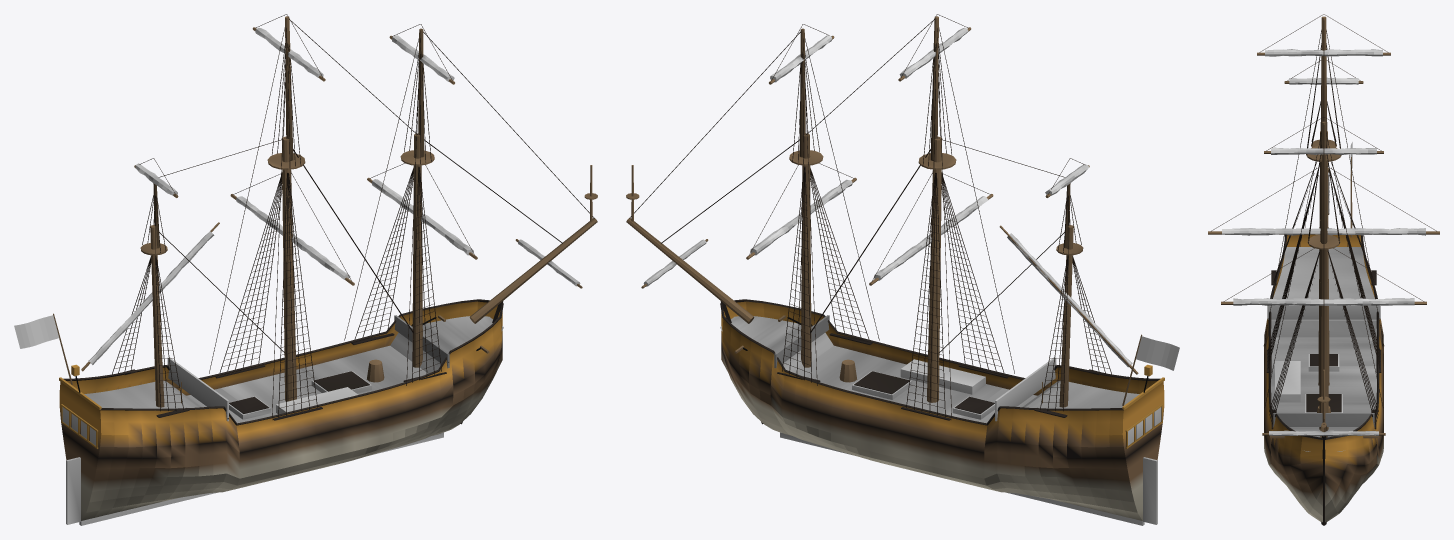
Rendered from merchant.glb.
3 views of the same model, side by side, from view 1: azimuth 30°, elevation 25°; view 2: azimuth 150°, elevation 25°; view 3: azimuth 270°, elevation 25° (orthographic). The views are drawn at different scales.
Visible parts, largest first — view 1: merchant_Hull, merchant_Rope, merchant_Spar, merchant_Deck, merchant_Sail, merchant_Tar, merchant_Flag, merchant_Ochre; view 2: merchant_Hull, merchant_Rope, merchant_Spar, merchant_Deck, merchant_Sail, merchant_Tar, merchant_Flag, merchant_Ochre; view 3: merchant_Hull, merchant_Deck, merchant_Rope, merchant_Sail, merchant_Spar, merchant_Tar.
Part boxes in pixels (x1,y1,x2,y2): merchant_Hull: [59, 301, 502, 525]; merchant_Rope: [112, 14, 594, 419]; merchant_Spar: [53, 16, 597, 407]; merchant_Deck: [84, 316, 503, 423]; merchant_Sail: [88, 27, 580, 364]; merchant_Tar: [63, 299, 503, 425]; merchant_Flag: [14, 315, 58, 348]; merchant_Ochre: [59, 364, 101, 448]; merchant_Hull: [721, 301, 1164, 525]; merchant_Rope: [629, 14, 1111, 419]; merchant_Spar: [626, 16, 1142, 407]; merchant_Deck: [720, 316, 1139, 423]; merchant_Sail: [643, 27, 1132, 367]; merchant_Tar: [720, 299, 1160, 425]; merchant_Flag: [1136, 336, 1179, 370]; merchant_Ochre: [1122, 364, 1164, 448]; merchant_Hull: [1264, 234, 1383, 525]; merchant_Deck: [1271, 247, 1376, 451]; merchant_Rope: [1210, 14, 1437, 424]; merchant_Sail: [1222, 49, 1425, 436]; merchant_Spar: [1208, 16, 1439, 438]; merchant_Tar: [1266, 234, 1381, 525].
Bounding box in the file's own units: 36.37 × 28.2 × 13.51.
